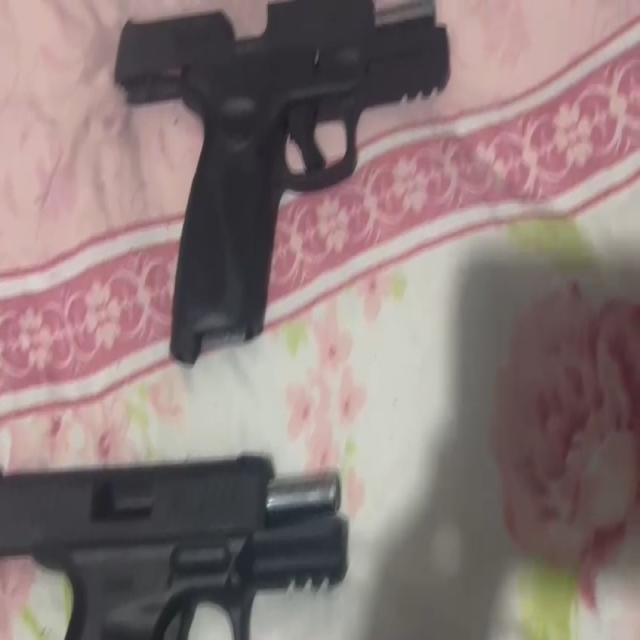gun: (110, 5, 458, 372), (0, 437, 365, 640)
